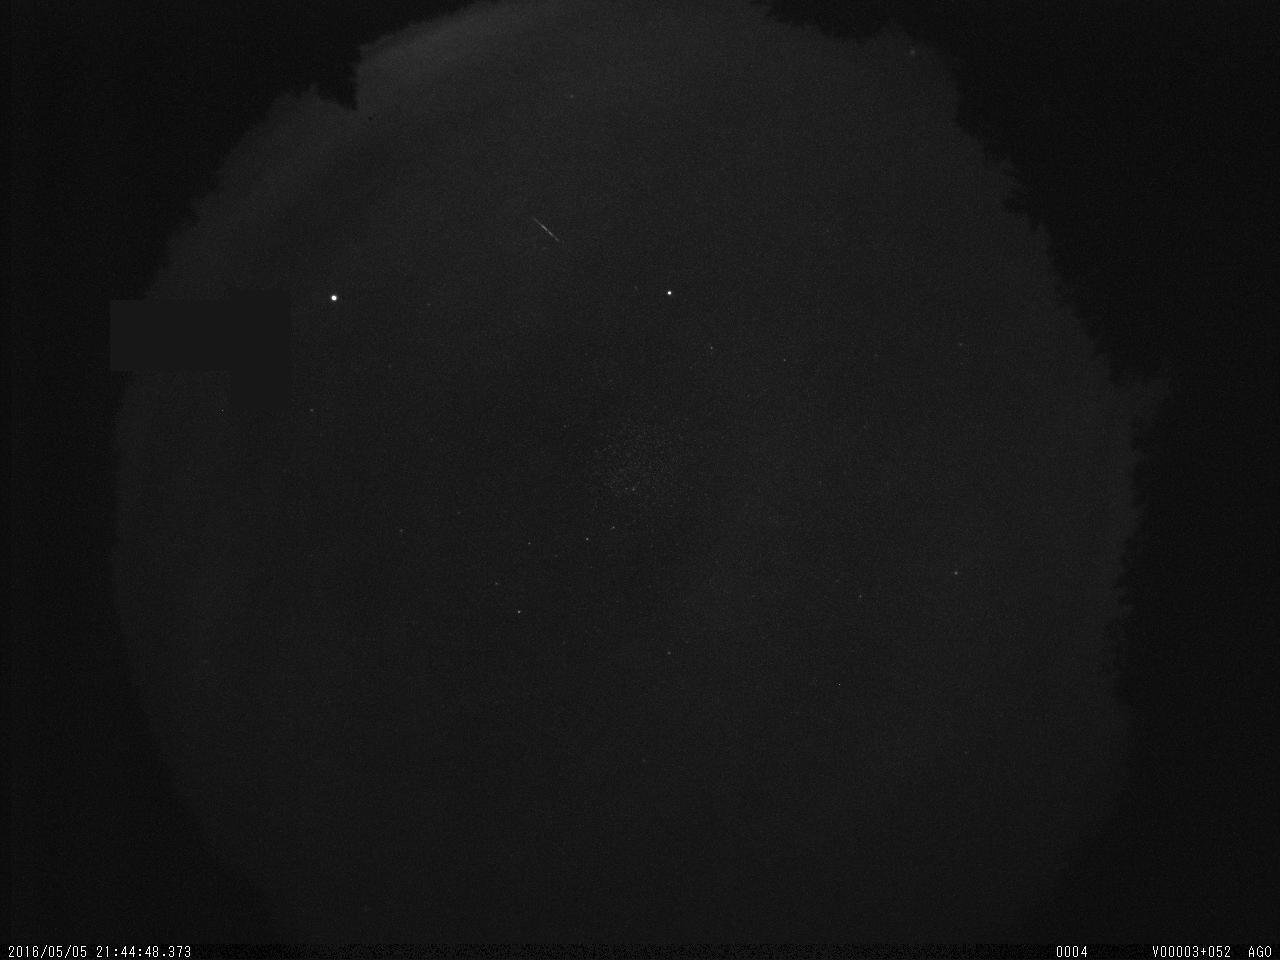meteor: (510, 200, 583, 266)
